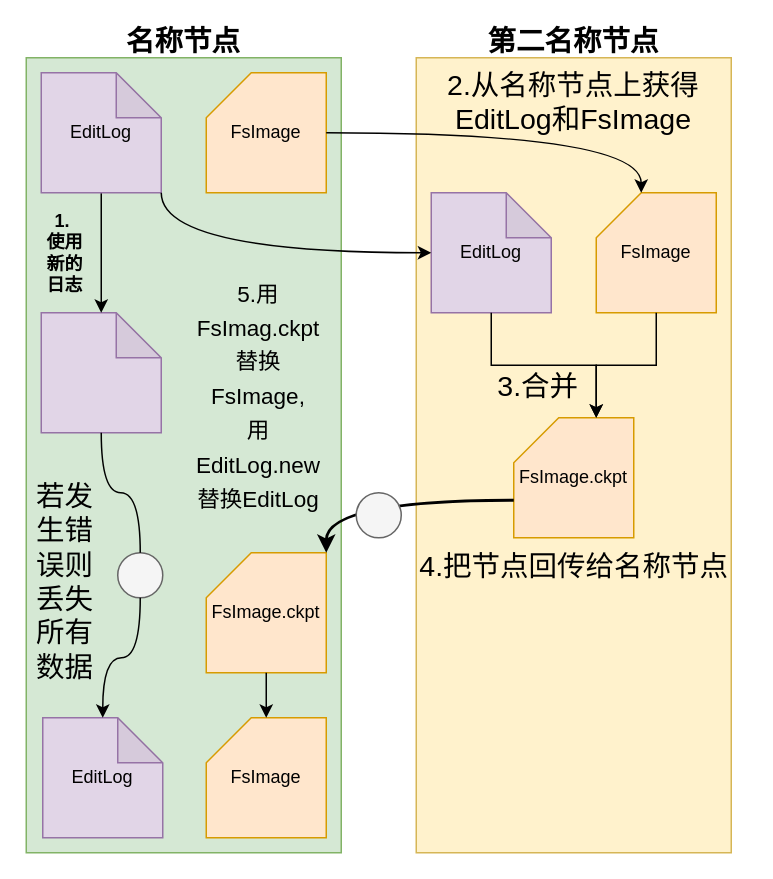
Some shapes in this 773 by 879 pixel diagram are drawn without their labels. Each missing label, with the centre of its shape:
"EditLog.new" belongs at [100,372].
"t1" belongs at [378,514].
"t2" belongs at [139,574].
